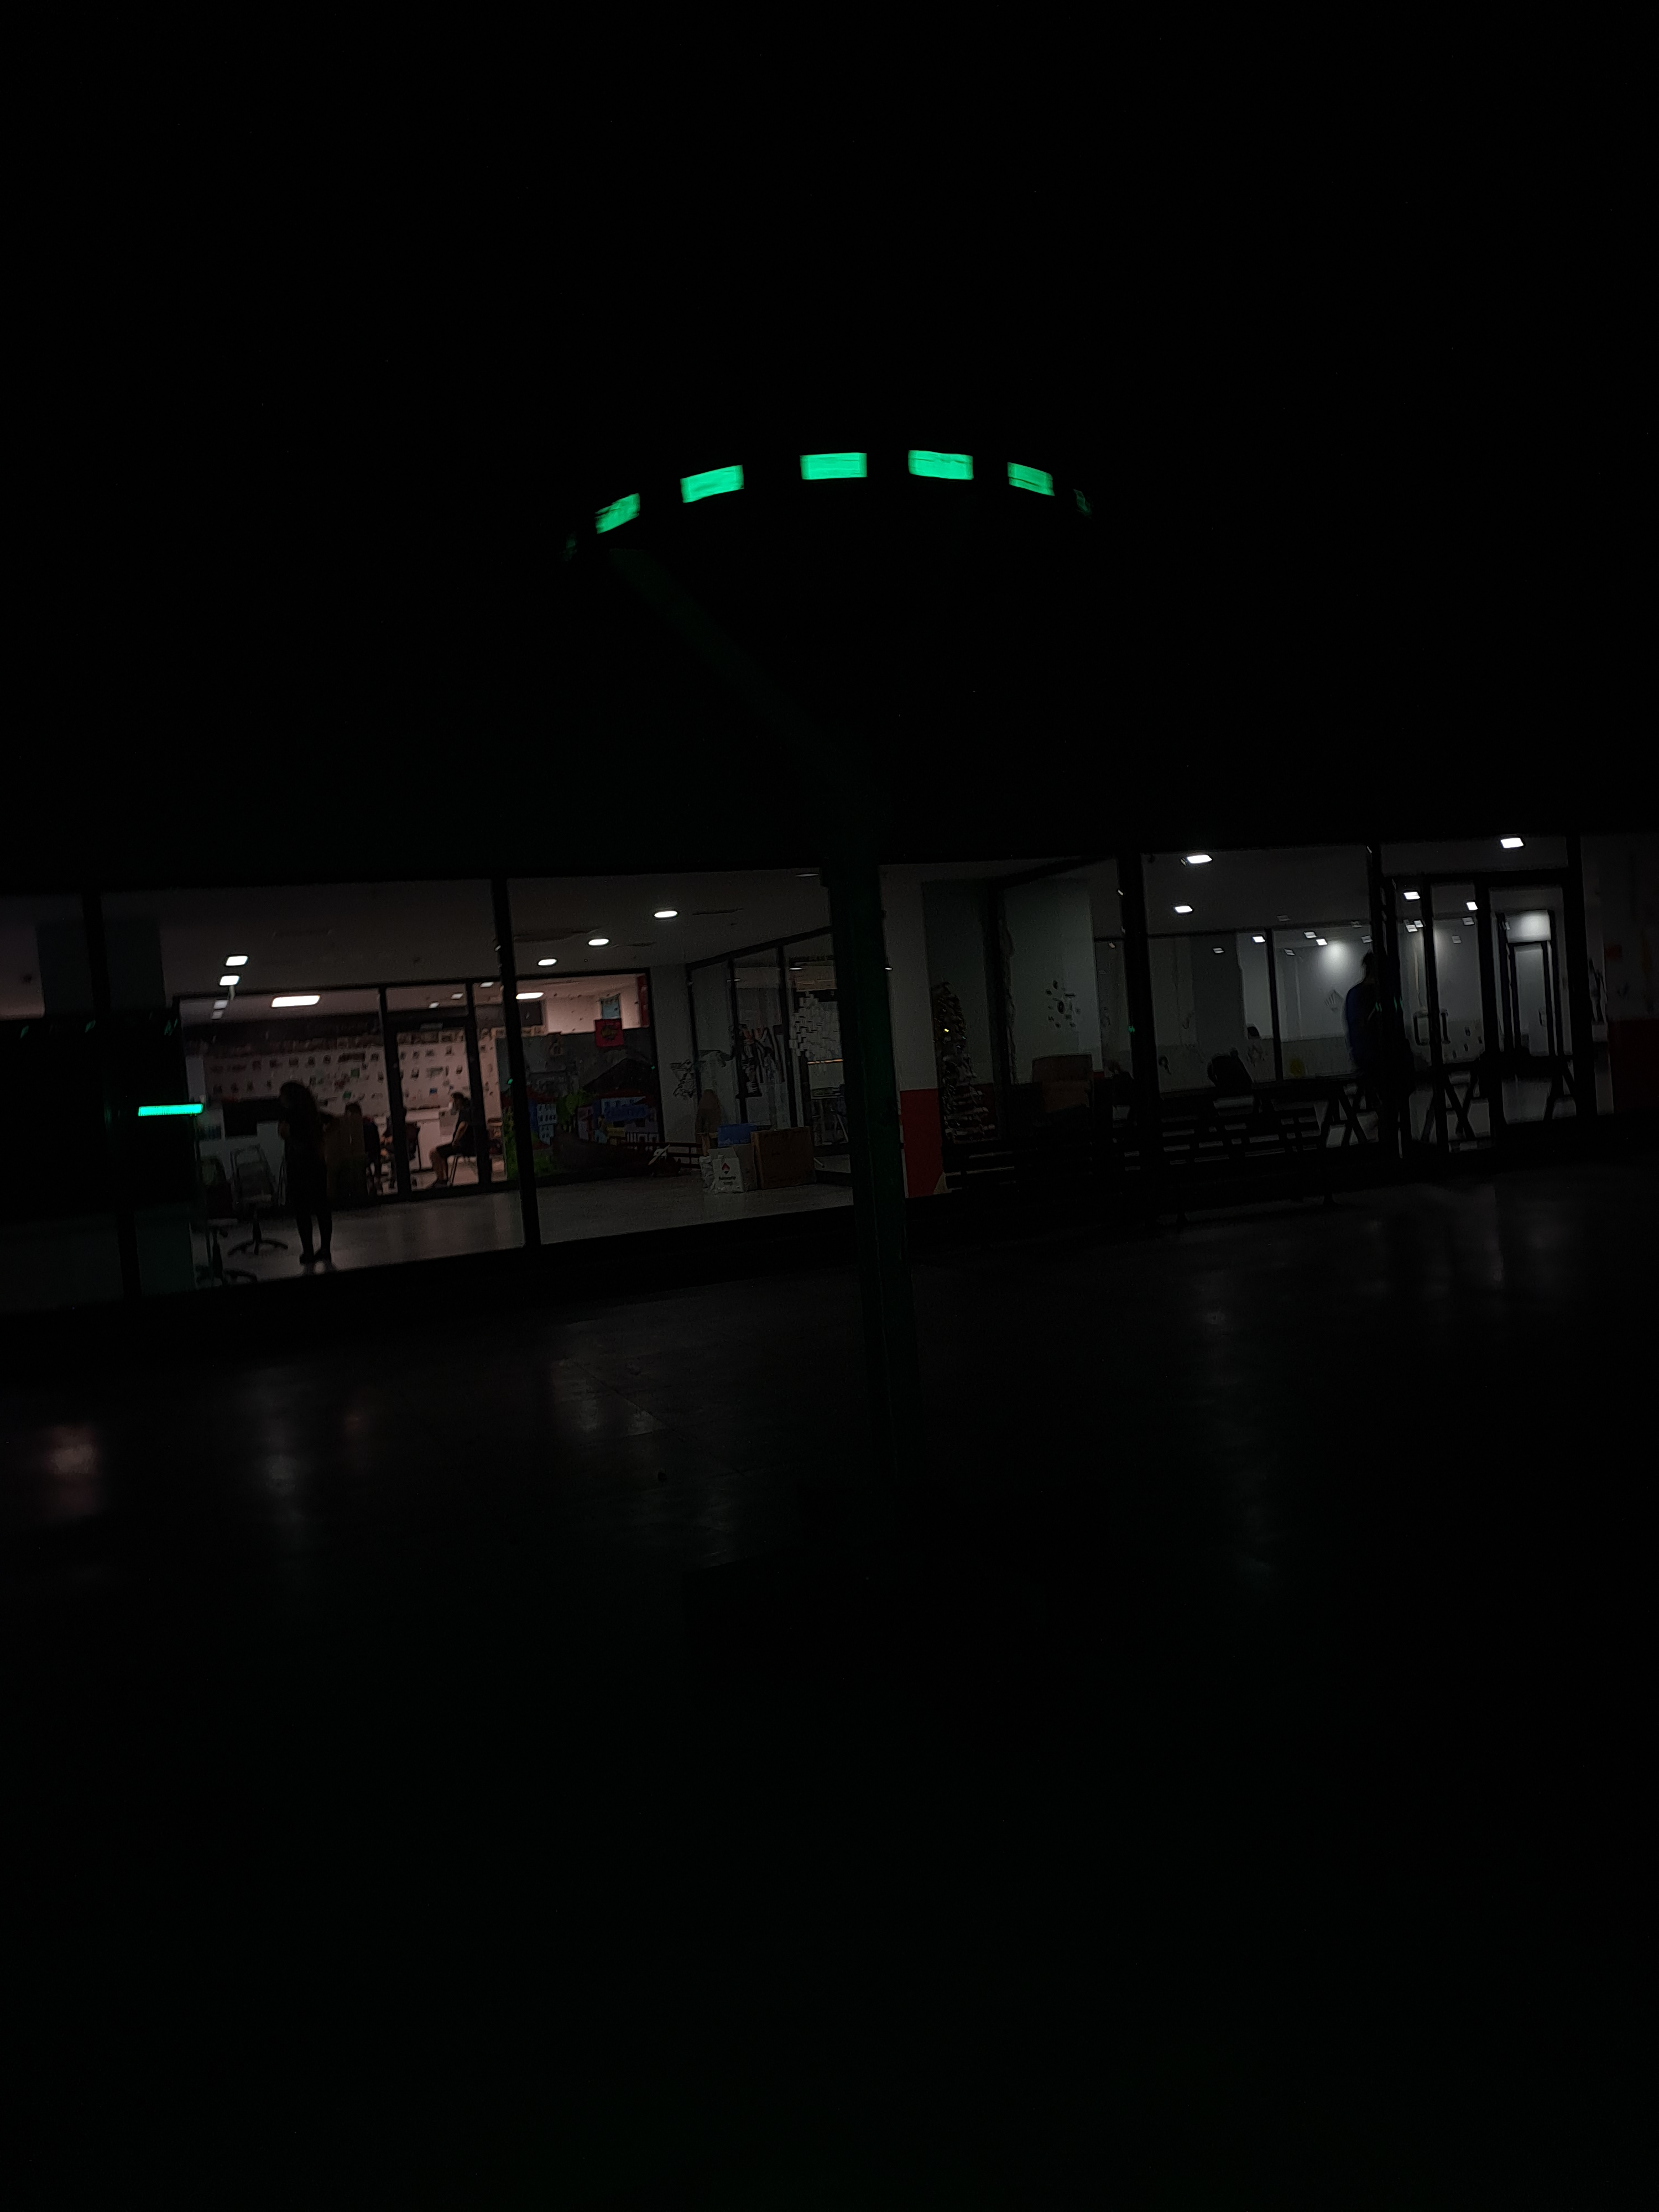hoop: (587, 437, 1065, 547)
